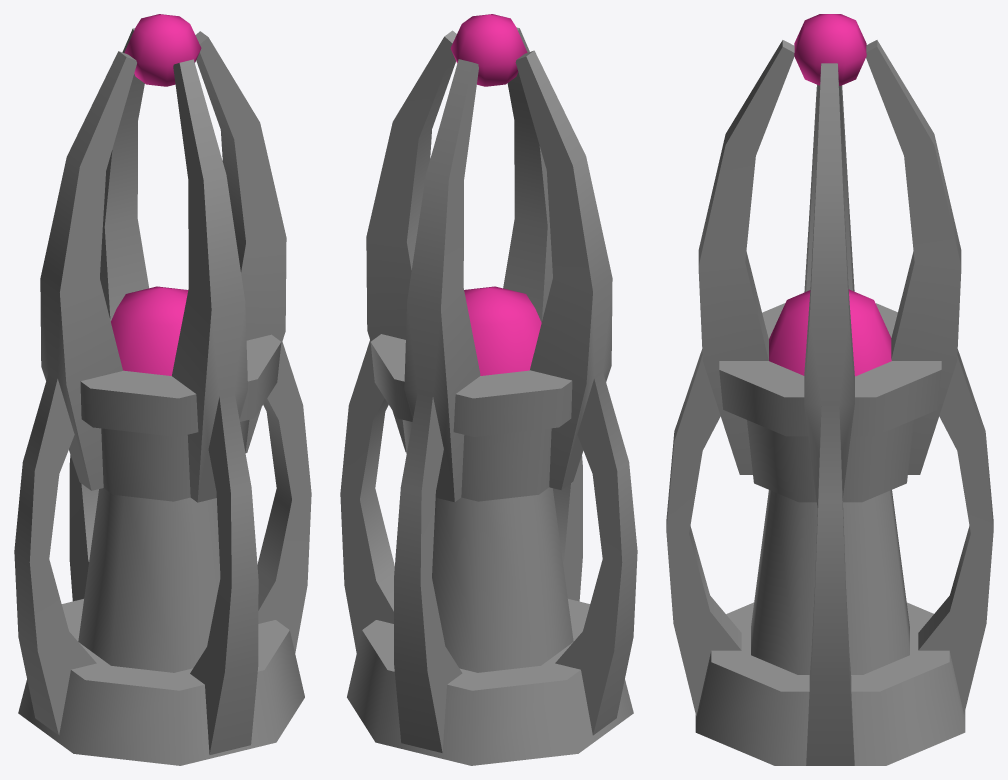
The picture shows the model from 3 angles, left to right: view 1: azimuth 30°, elevation 25°; view 2: azimuth 150°, elevation 25°; view 3: azimuth 270°, elevation 25°; orthographic projection.
Visible parts, largest first — view 1: high; view 2: high; view 3: high.
Boxes of the visible parts, x1,y1,x2,y2 form: high: [14, 14, 311, 765]; high: [340, 14, 637, 765]; high: [666, 14, 993, 765].
Bounding box in the file's own units: 4056 × 9486 × 4045.
